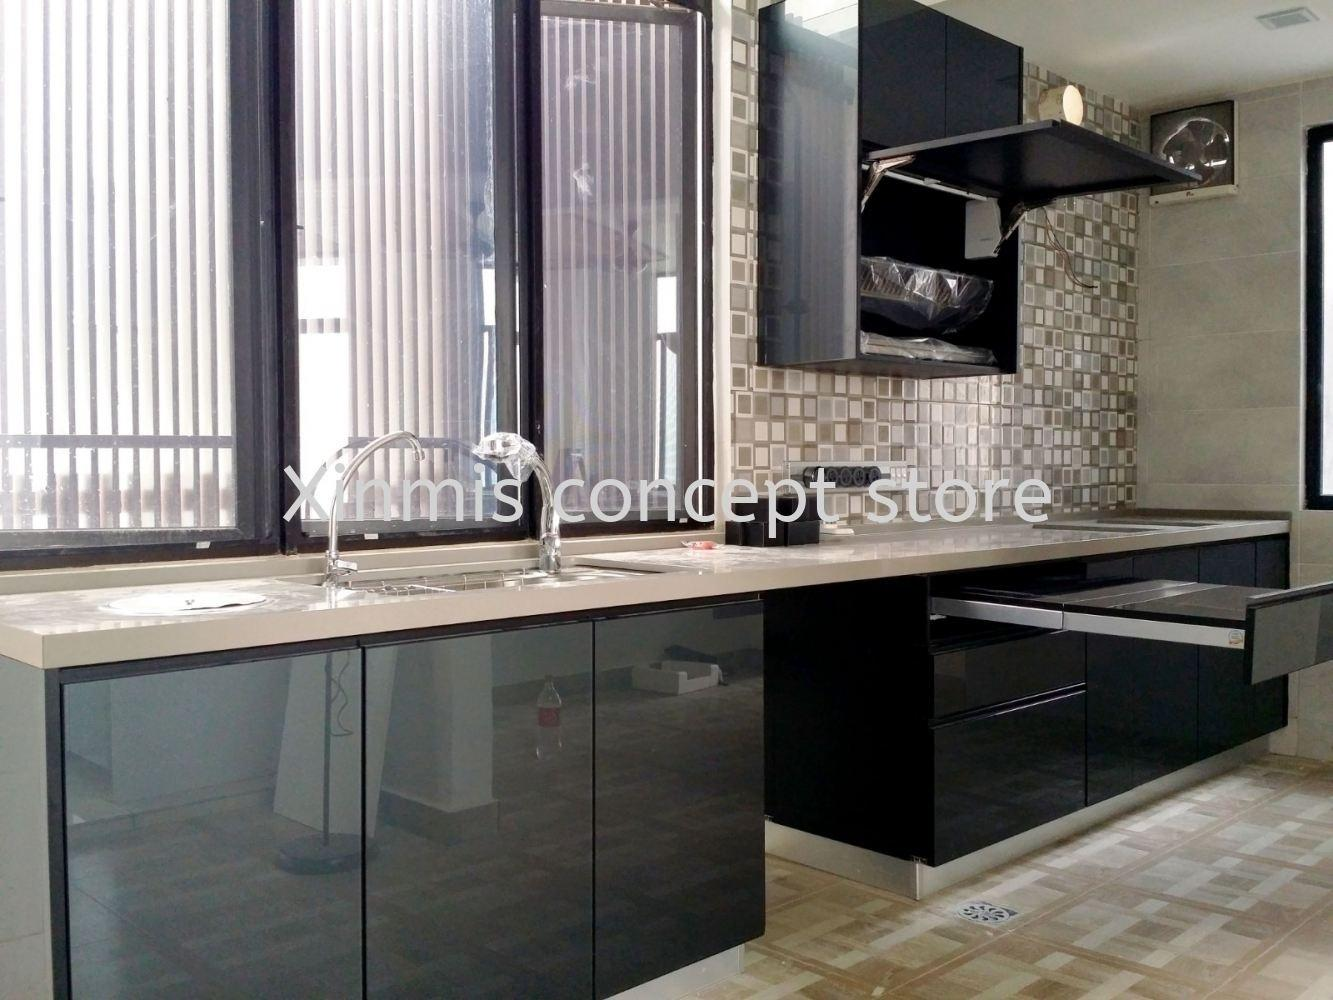cabinet_door: (63, 667, 365, 1000), (365, 632, 595, 1000), (599, 606, 769, 968), (937, 707, 1086, 830), (934, 642, 1087, 707), (1254, 592, 1333, 674)
